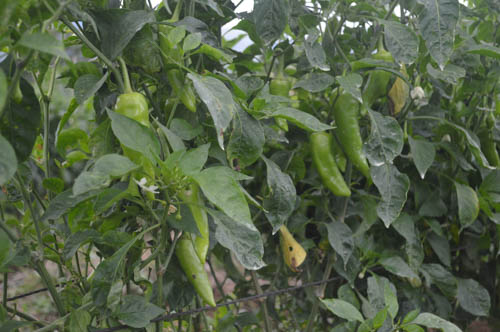ChiliPepper: (113, 96, 158, 193), (160, 20, 199, 112), (334, 92, 371, 175), (171, 179, 211, 254), (356, 54, 397, 122), (173, 239, 215, 304), (310, 129, 350, 197), (266, 75, 289, 128)
